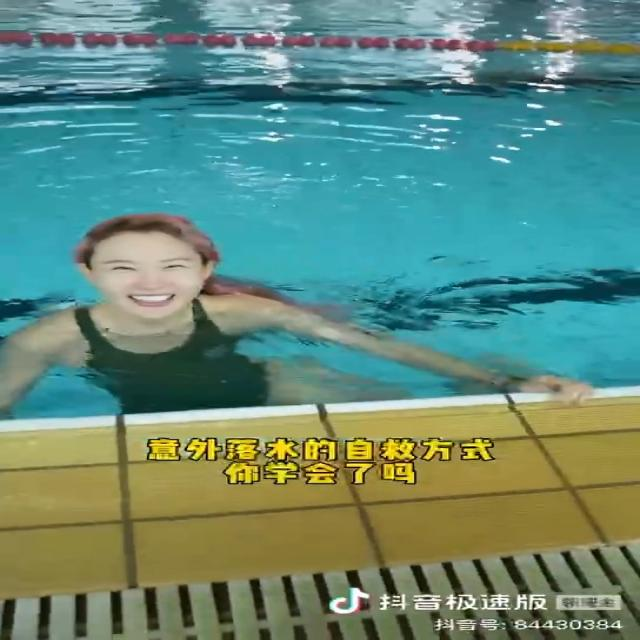Swimming: (0, 215, 593, 406)
